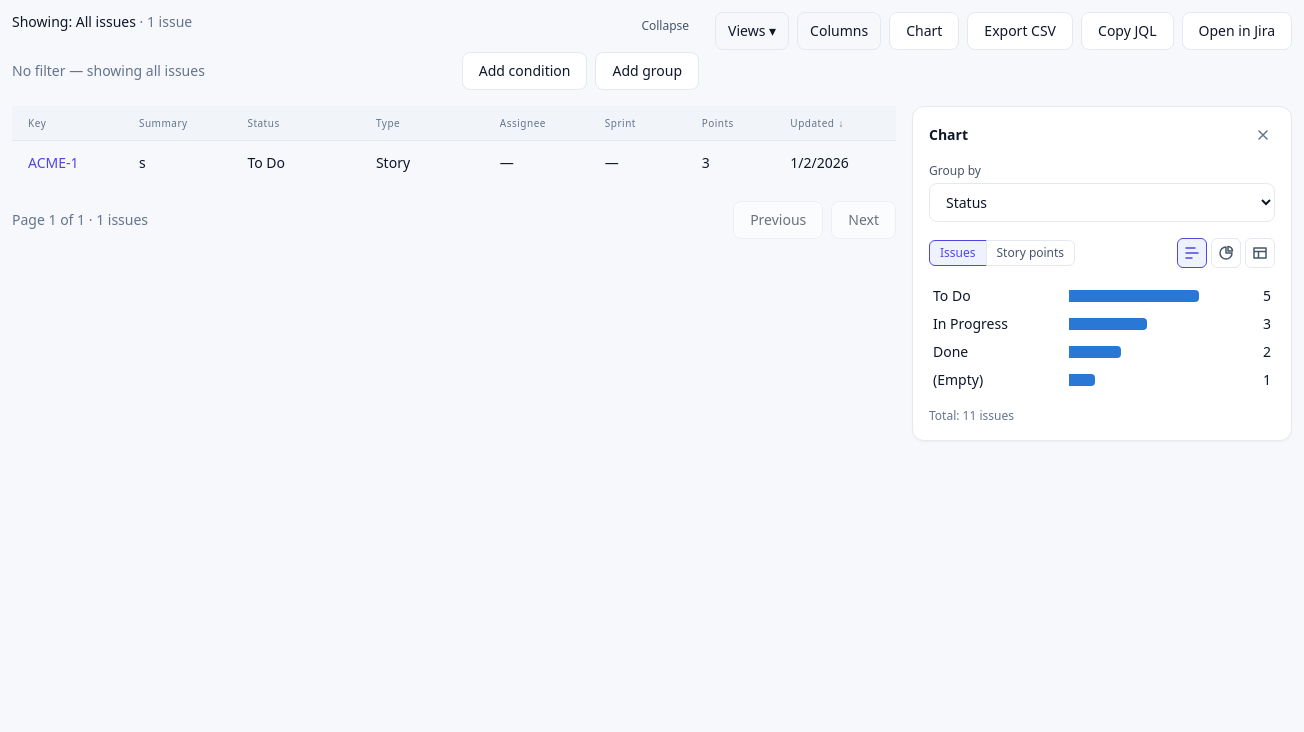
Test: IssueList — chart › narrows the list to a clicked bar, and keeps the old chart up while the new one loads
Expected: the text "Total: 11 issues" is shown, [929, 407, 1014, 424]
Click the button with aria-label "Filter to To Do: 5": x=1102, y=296 [929, 284, 1275, 308]
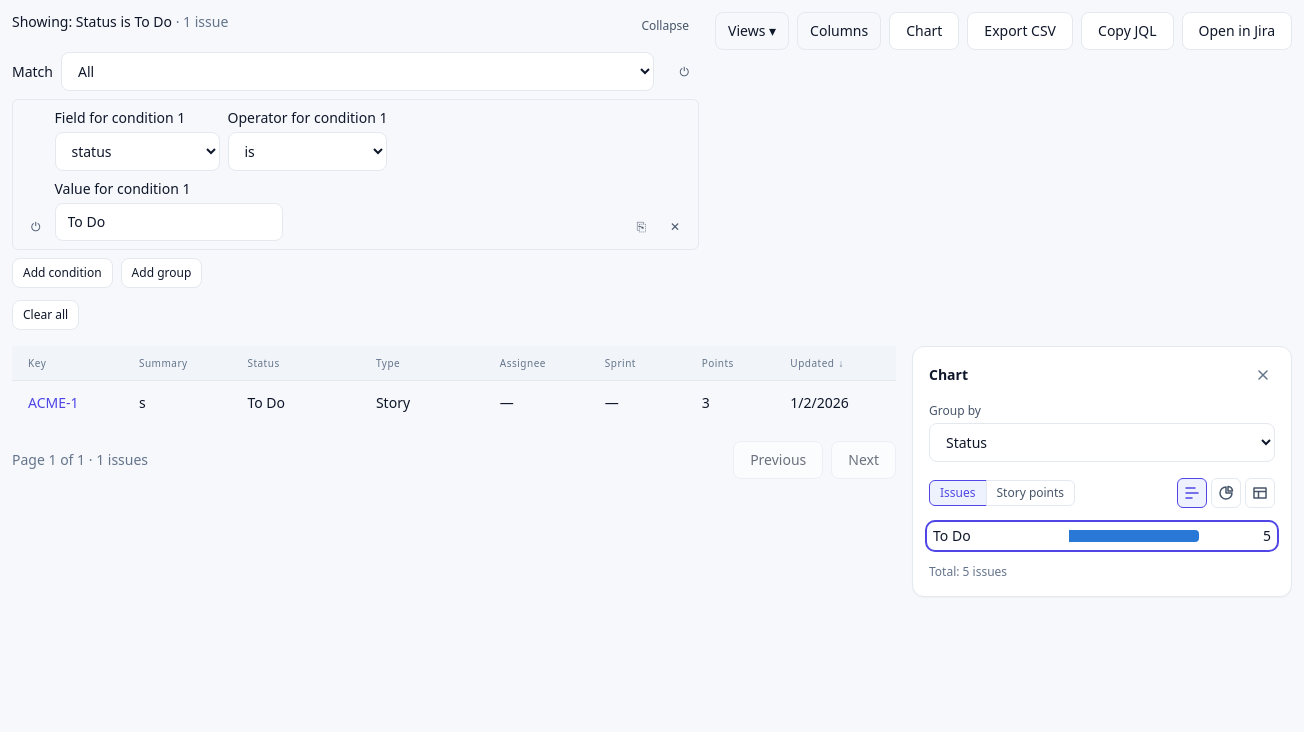
Expected: the text "Total: 5 issues" is shown, [929, 563, 1007, 580]
